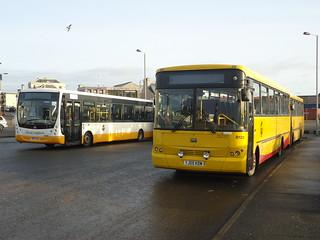bus: (149, 66, 304, 174), (9, 87, 156, 147)
